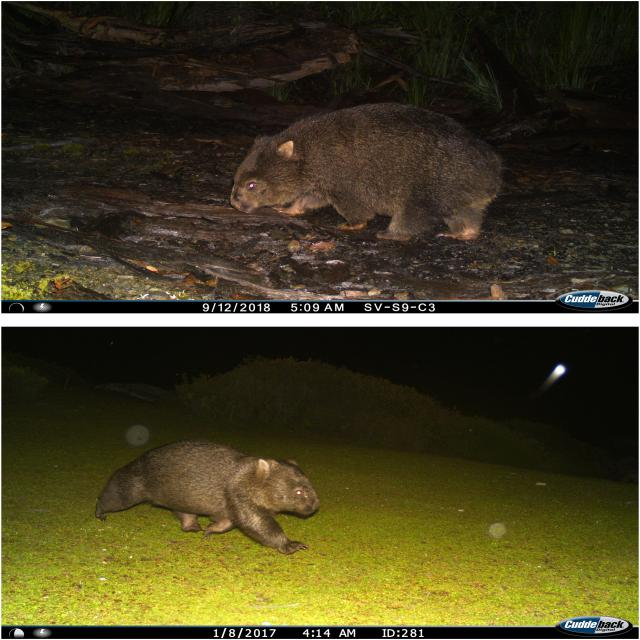Wombat: (218, 105, 519, 248), (82, 438, 327, 554)
